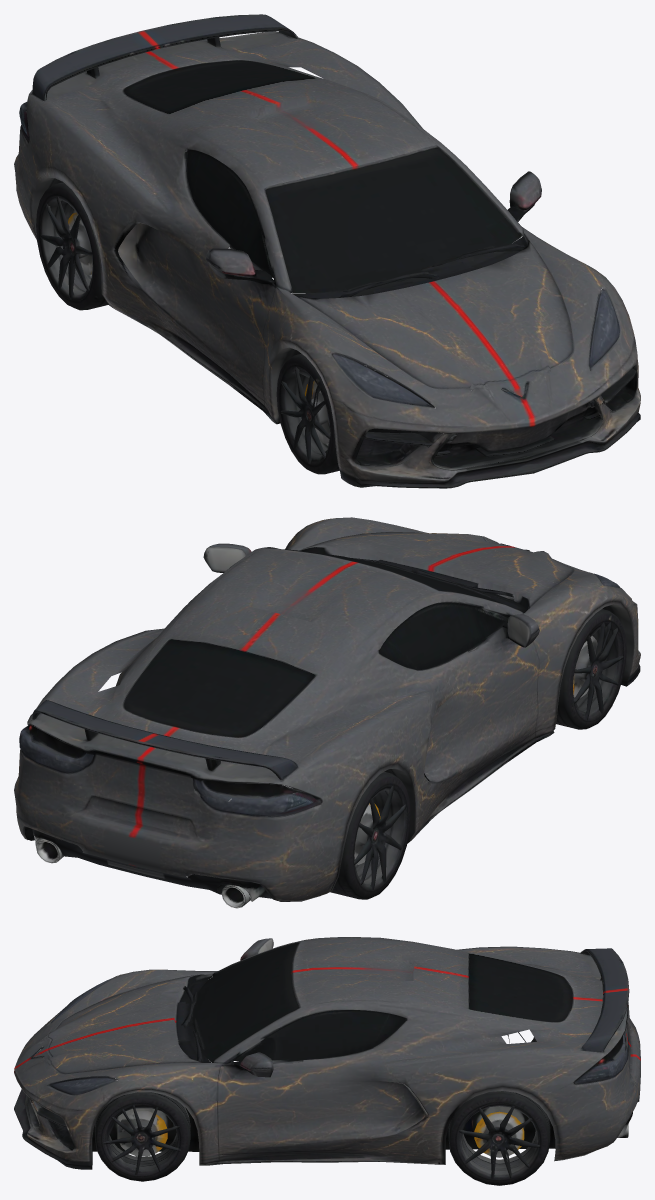
Rendered from eltesla.glb.
3 views of the same model, one above another, from view 1: azimuth 30°, elevation 25°; view 2: azimuth 150°, elevation 25°; view 3: azimuth 270°, elevation 25° (orthographic). The views are drawn at different scales.
Parts seen in each view (by area): view 1: ba9477d0_a2cd_43be_8818_dda4f16c37b6; view 2: ba9477d0_a2cd_43be_8818_dda4f16c37b6; view 3: ba9477d0_a2cd_43be_8818_dda4f16c37b6.
Boxes of the visible parts, box(x1,y1,x2,y2) form: ba9477d0_a2cd_43be_8818_dda4f16c37b6: box(14, 14, 640, 488); ba9477d0_a2cd_43be_8818_dda4f16c37b6: box(14, 517, 640, 908); ba9477d0_a2cd_43be_8818_dda4f16c37b6: box(14, 937, 640, 1185).
Bounding box in the file's own units: 0.4702 × 0.2847 × 0.9995.
Materials: 5 (5 with a texture image).
